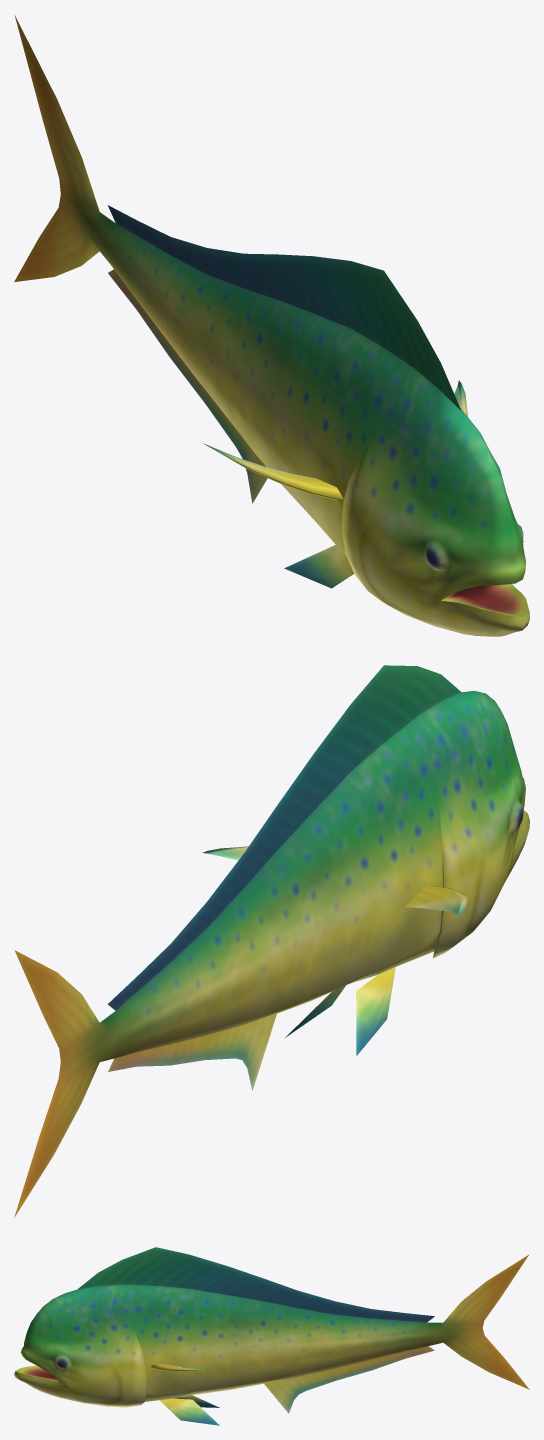
Rendered from mahi-mahi.glb.
3 views of the same model, one above another, from view 1: azimuth 30°, elevation 25°; view 2: azimuth 150°, elevation 25°; view 3: azimuth 270°, elevation 25° (orthographic). The views are drawn at different scales.
Parts seen in each view (by area): view 1: FishShiira__mShiira; view 2: FishShiira__mShiira; view 3: FishShiira__mShiira.
Part boxes in pixels (x1=…): FishShiira__mShiira: x1=14, y1=15, x2=529, y2=636; FishShiira__mShiira: x1=14, y1=665, x2=529, y2=1217; FishShiira__mShiira: x1=14, y1=1247, x2=529, y2=1425.
Bounding box in the file's own units: 6.28 × 7.84 × 21.62.
Materials: 1 (1 with a texture image).
